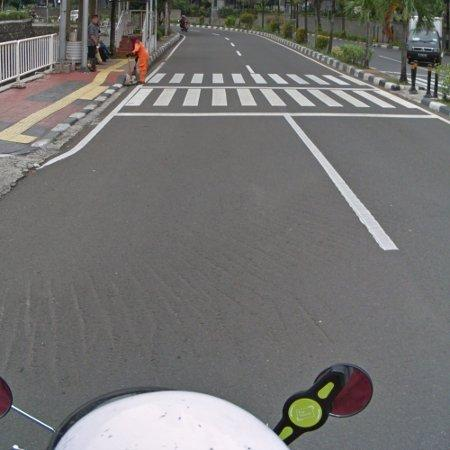crosswalks: (122, 86, 420, 109)
